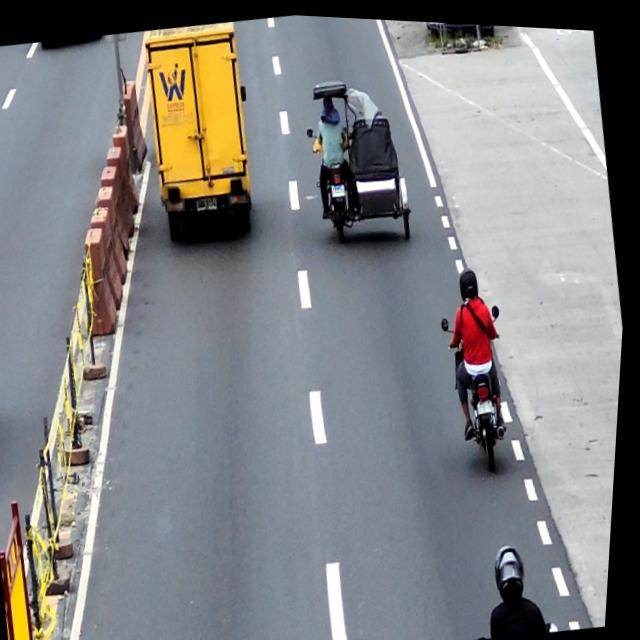License-Plate: (199, 194, 221, 209), (480, 393, 499, 410), (333, 180, 348, 195)
Motorcycle: (437, 295, 530, 471)
Tricycle: (296, 65, 425, 251)
Truck: (133, 15, 273, 244)
